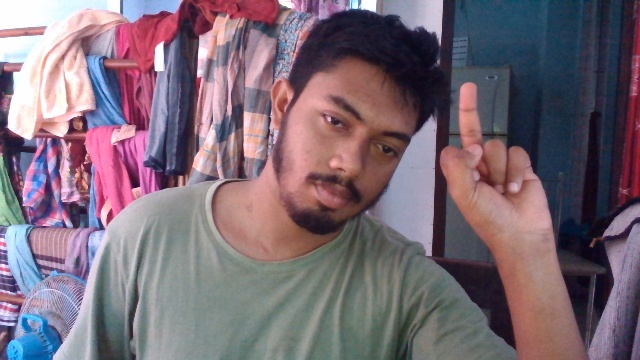fucku: (432, 80, 562, 254)
